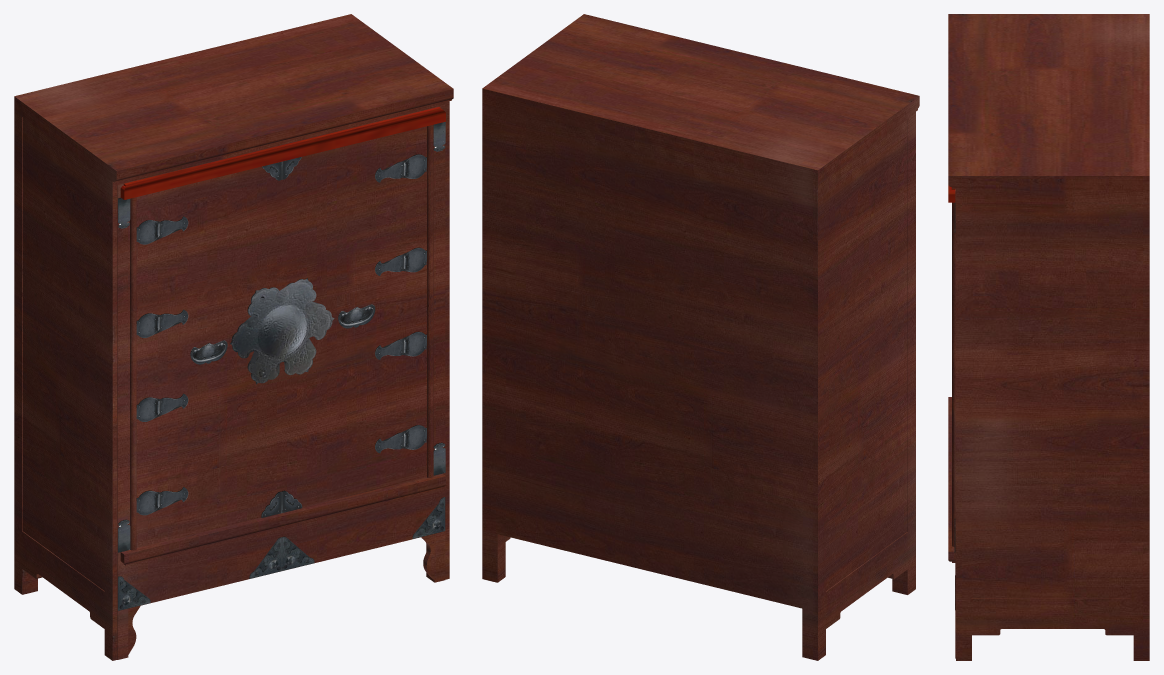
Rendered from 장식장 3.FBX.
3 views of the same model, side by side, from view 1: azimuth 30°, elevation 25°; view 2: azimuth 150°, elevation 25°; view 3: azimuth 270°, elevation 25° (orthographic).
Parts seen in each view (by area): view 1: 장식장 3; view 2: 장식장 3; view 3: 장식장 3.
Boxes of the visible parts, box(x1,y1,x2,y2) form: 장식장 3: box(14, 14, 453, 660); 장식장 3: box(482, 14, 919, 660); 장식장 3: box(948, 14, 1149, 660).
Size of the model in its own units: 29.89 by 41.74 by 15.7.
